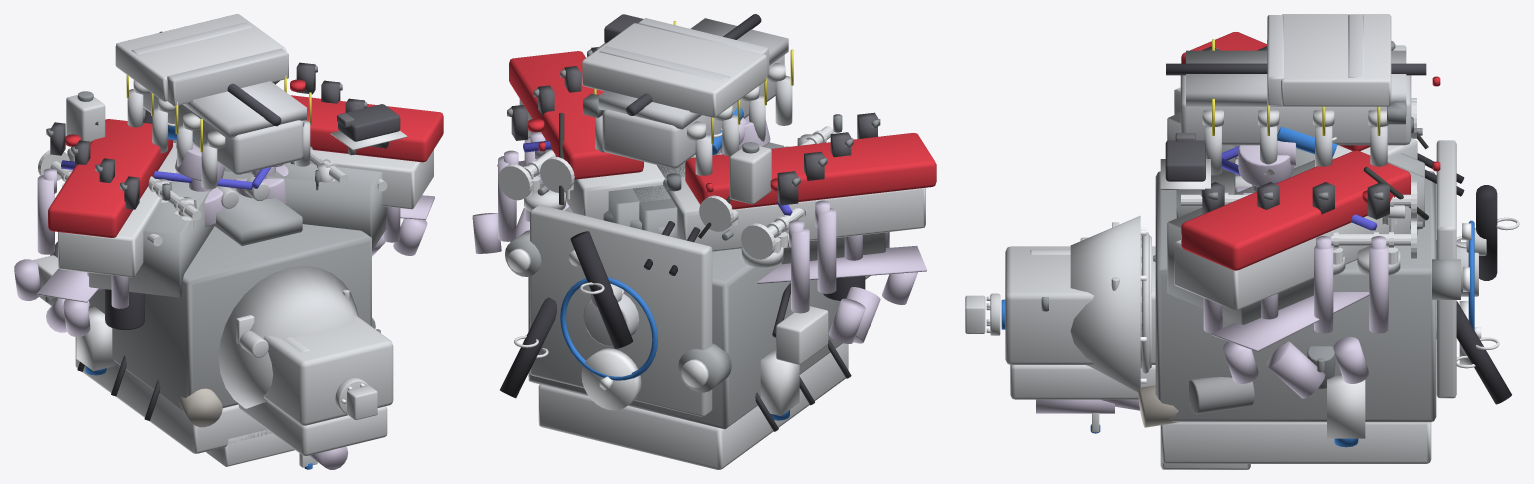
File: Powertrain_V8TT_Seq6_Exploded.glb
3 views of the same model, side by side, from view 1: azimuth 30°, elevation 25°; view 2: azimuth 150°, elevation 25°; view 3: azimuth 270°, elevation 25° (orthographic). The views are drawn at different scales.
Visible parts, largest first — view 1: Engine_V8_Block, Trans_Gearbox_Case, Engine_V8_IntakeManifold, Engine_V8_Intercooler, Engine_V8_ValveCover_L, Trans_Bellhousing, Engine_V8_OilPan, Engine_V8_ValveCover_R, Engine_V8_ExhaustHeader_L, Engine_V8_CylinderHead_L, Engine_V8_WiringHarness, Engine_V8_CylinderHead_R (+11 smaller); view 2: Engine_V8_TimingCover_Accessories, Engine_V8_Block, Engine_V8_Intercooler, Engine_V8_ValveCover_L, Engine_V8_IntakeManifold, Engine_V8_OilPan, Engine_V8_ExhaustHeader_L, Engine_V8_ValveCover_R, Engine_V8_CylinderHead_L, Engine_V8_CoolantSystem, Engine_V8_Valvetrain, Engine_V8_DrySumpSystem (+6 smaller); view 3: Engine_V8_Block, Engine_V8_IntakeManifold, Engine_V8_ValveCover_R, Trans_Gearbox_Case, Engine_V8_ExhaustHeader_R, Engine_V8_Intercooler, Engine_V8_OilPan, Trans_Bellhousing, Engine_V8_CylinderHead_R, Engine_V8_TimingCover_Accessories, Engine_V8_CoolantSystem, Engine_V8_WiringHarness (+11 smaller).
Part boxes in pixels (x1,y1,x2,y2): Engine_V8_Block: (88, 140, 386, 411); Trans_Gearbox_Case: (238, 314, 393, 455); Engine_V8_IntakeManifold: (127, 80, 310, 189); Engine_V8_Intercooler: (115, 14, 288, 106); Engine_V8_ValveCover_L: (46, 119, 172, 237); Trans_Bellhousing: (218, 265, 358, 408); Engine_V8_OilPan: (75, 337, 295, 466); Engine_V8_ValveCover_R: (290, 62, 443, 162); Engine_V8_ExhaustHeader_L: (14, 175, 128, 336); Engine_V8_CylinderHead_L: (43, 143, 193, 277); Engine_V8_WiringHarness: (126, 31, 407, 152); Engine_V8_CylinderHead_R: (310, 150, 433, 209); Engine_V8_TimingCover_Accessories: (505, 205, 731, 416); Engine_V8_Block: (528, 142, 885, 429); Engine_V8_Intercooler: (582, 18, 769, 117); Engine_V8_ValveCover_L: (685, 112, 936, 209); Engine_V8_IntakeManifold: (583, 18, 792, 175); Engine_V8_OilPan: (538, 343, 848, 469); Engine_V8_ExhaustHeader_L: (757, 208, 926, 343); Engine_V8_ValveCover_R: (507, 47, 643, 179); Engine_V8_CylinderHead_L: (663, 134, 925, 267); Engine_V8_CoolantSystem: (500, 142, 771, 398); Engine_V8_Valvetrain: (498, 126, 833, 259); Engine_V8_DrySumpSystem: (755, 276, 865, 431); Engine_V8_Block: (1155, 112, 1436, 422); Engine_V8_IntakeManifold: (1180, 50, 1411, 175); Engine_V8_ValveCover_R: (1181, 150, 1410, 270); Trans_Gearbox_Case: (1001, 246, 1155, 399); Engine_V8_ExhaustHeader_R: (1203, 246, 1388, 398); Engine_V8_Intercooler: (1267, 14, 1391, 106); Engine_V8_OilPan: (1160, 422, 1431, 469); Trans_Bellhousing: (1070, 215, 1146, 391); Engine_V8_CylinderHead_R: (1174, 191, 1422, 310); Engine_V8_TimingCover_Accessories: (1432, 140, 1486, 398); Engine_V8_CoolantSystem: (1391, 41, 1519, 404); Engine_V8_WiringHarness: (1160, 39, 1426, 189).
Bounding box in the file's own units: 1.03 × 0.8796 × 1.11.
